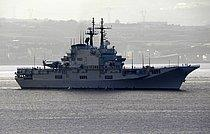MIL_Ship: (12, 17, 200, 92)
